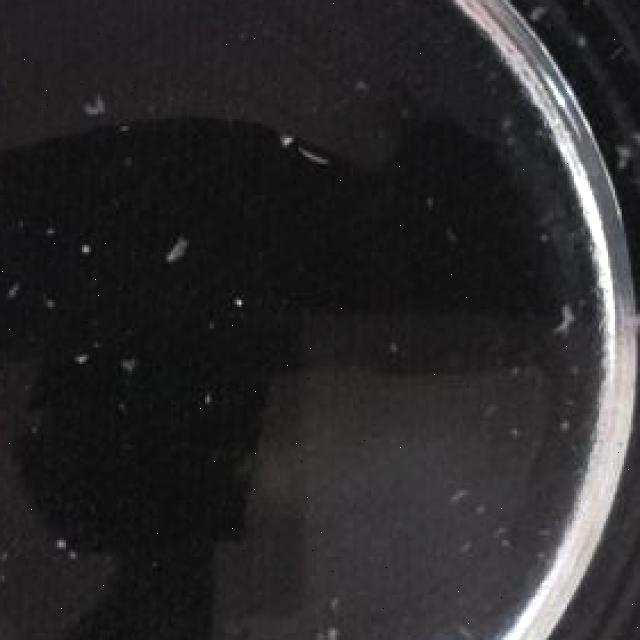Microplastic: (76, 74, 134, 133), (594, 114, 640, 186), (542, 292, 590, 350), (150, 224, 196, 278), (276, 107, 308, 157)
